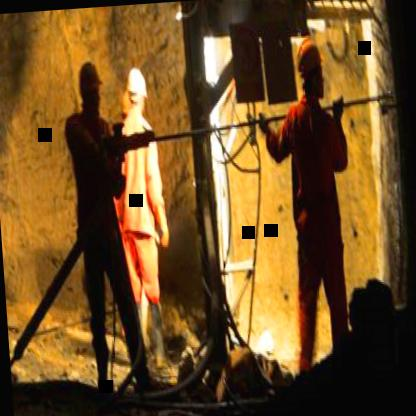helmet: (294, 31, 328, 108), (74, 53, 107, 118), (124, 63, 148, 116)
